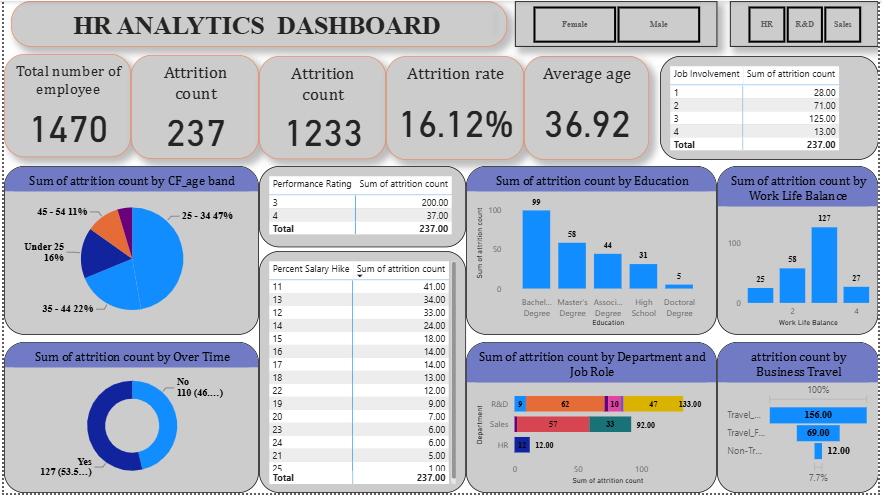

The dashboard page shown, as its layout file describes it:
{"tool":"powerbi","page":{"name":"Page 1","canvas":[1280,720],"ordinal":0},"visuals":[{"type":"textbox","box":[10.1,0,725.7,67.2],"z":0},{"type":"card","title":"Total number of employee","fields":{"Values":["Sum(HR data (2).Employee Count)"]},"box":[0,77.6,185.9,150.7],"z":1000},{"type":"card","title":"Attrition count","fields":{"Values":["CountNonNull(HR data (2).Attrition)"]},"box":[185.9,79,187.3,152.2],"z":2000},{"type":"card","title":"Attrition count","fields":{"Values":["CountNonNull(HR data (2).CF_current Employee)"]},"box":[373.2,80.5,185.9,150.7],"z":3000},{"type":"card","title":"Attrition rate","fields":{"Values":["HR data (2).Measure"]},"box":[559,80.5,202,152.2],"z":4000},{"type":"card","title":"Average age","fields":{"Values":["Avg(HR data (2).Age)"]},"box":[761,80.5,182.9,152.2],"z":5000},{"type":"slicer","fields":{"Values":["HR data (2).Gender"]},"box":[747.8,0,295.8,66.9],"z":6000},{"type":"slicer","fields":{"Values":["HR data (2).Department"]},"box":[1063,0,217,66.9],"z":7000},{"type":"pieChart","fields":{"Category":["HR data (2).CF_age band"],"Y":["Sum(HR data (2).attrition count)"]},"box":[0,241.5,373.2,247.3],"z":8000},{"type":"donutChart","fields":{"Series":["HR data (2).Over Time"],"Y":["Sum(HR data (2).attrition count)"]},"box":[0,499,373.2,221],"z":9000},{"type":"pivotTable","fields":{"Rows":["HR data (2).Performance Rating"],"Values":["Sum(HR data (2).attrition count)"]},"box":[373.2,241.5,302.9,118.5],"z":10000},{"type":"pivotTable","fields":{"Rows":["HR data (2).Percent Salary Hike"],"Values":["Sum(HR data (2).attrition count)"]},"box":[373.2,365.9,302.9,354.1],"z":11000},{"type":"clusteredColumnChart","fields":{"Y":["Sum(HR data (2).attrition count)"],"Category":["HR data (2).Education"]},"box":[676.1,241.5,367.3,247.3],"z":12000},{"type":"barChart","fields":{"Category":["HR data (2).Department"],"Y":["Sum(HR data (2).attrition count)"],"Series":["HR data (2).Job Role"]},"box":[676.1,499,367.3,221],"z":13000},{"type":"funnel","title":" attrition count by Business Travel","fields":{"Category":["HR data (2).Business Travel"],"Y":["Sum(HR data (2).attrition count)"]},"box":[1043.4,499,237.1,221],"z":14000},{"type":"clusteredColumnChart","fields":{"Y":["Sum(HR data (2).attrition count)"],"Category":["HR data (2).Work Life Balance"]},"box":[1043.4,241.5,235.6,247.3],"z":15000},{"type":"pivotTable","fields":{"Rows":["HR data (2).Job Involvement"],"Values":["Sum(HR data (2).attrition count)"]},"box":[960,80.5,320.5,152.2],"z":16000}]}

Visuals, with their boxes in screenshot pixels (x1, y1, x2, y2), scaled from the page's 1280x720 canvas onto the 882x496 screenshot:
textbox: box=[7, 0, 507, 46]
"Total number of employee" card: box=[0, 53, 128, 157]
"Attrition count" card: box=[128, 54, 257, 159]
"Attrition count" card: box=[257, 55, 385, 159]
"Attrition rate" card: box=[385, 55, 524, 160]
"Average age" card: box=[524, 55, 650, 160]
slicer - HR data (2).Gender: box=[515, 0, 719, 46]
slicer - HR data (2).Department: box=[732, 0, 881, 46]
pieChart - HR data (2).CF_age band x Sum(HR data (2).attrition count): box=[0, 166, 257, 337]
donutChart - HR data (2).Over Time x Sum(HR data (2).attrition count): box=[0, 344, 257, 495]
pivotTable - HR data (2).Performance Rating x Sum(HR data (2).attrition count): box=[257, 166, 466, 248]
pivotTable - HR data (2).Percent Salary Hike x Sum(HR data (2).attrition count): box=[257, 252, 466, 495]
clusteredColumnChart - Sum(HR data (2).attrition count) x HR data (2).Education: box=[466, 166, 719, 337]
barChart - HR data (2).Department x Sum(HR data (2).attrition count): box=[466, 344, 719, 495]
" attrition count by Business Travel" funnel: box=[719, 344, 881, 495]
clusteredColumnChart - Sum(HR data (2).attrition count) x HR data (2).Work Life Balance: box=[719, 166, 881, 337]
pivotTable - HR data (2).Job Involvement x Sum(HR data (2).attrition count): box=[662, 55, 881, 160]
